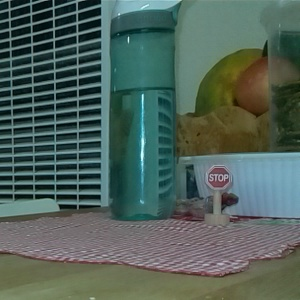stop sign: (203, 161, 232, 230)
